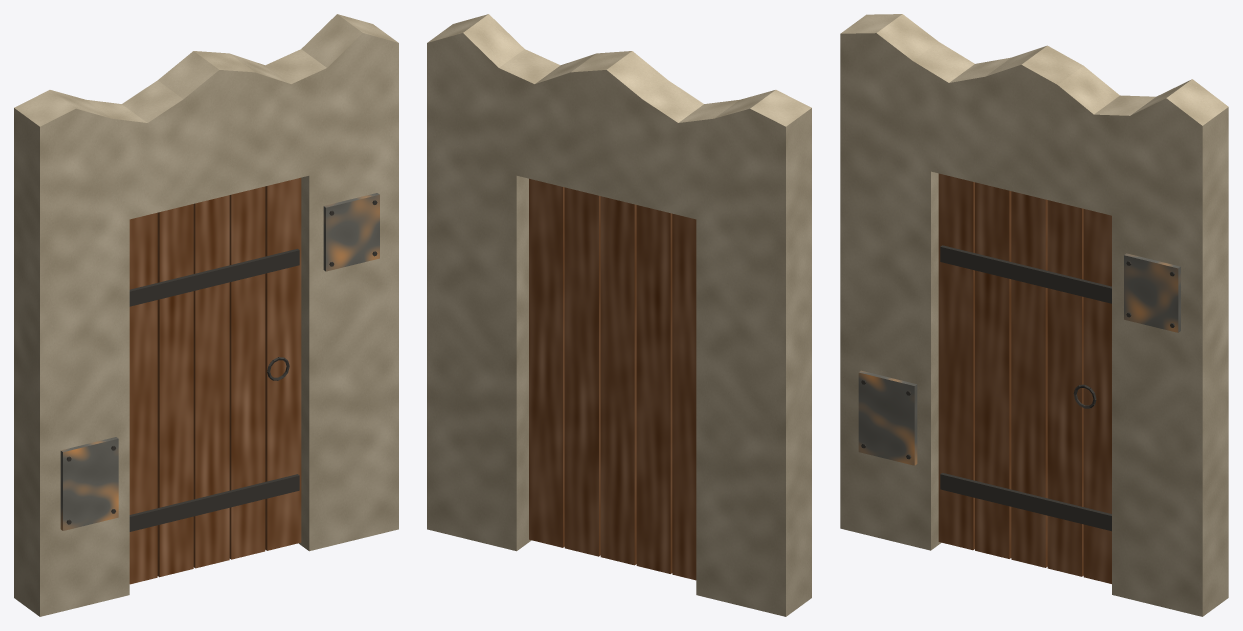
File: wall_door_sand.glb
3 views of the same model, side by side, from view 1: azimuth 30°, elevation 25°; view 2: azimuth 150°, elevation 25°; view 3: azimuth 330°, elevation 25° (orthographic).
Parts seen in each view (by area): view 1: door, object 1, object 2, object 3, object 5, object 15, object 10, object 23, object 19, object 20, object 18, object 24 (+4 smaller); view 2: door, object 1, object 2, object 3, object 15, object 23, object 19, object 20, object 18, object 24, object 22, object 16 (+2 smaller); view 3: door, object 2, object 1, object 3, object 5, object 24, object 10, object 20, object 16, object 21, object 15, object 17 (+4 smaller).
Boxes of the visible parts, x1,y1,x2,y2 form: door: (129, 177, 301, 584); object 1: (14, 144, 129, 616); object 2: (299, 78, 398, 551); object 3: (129, 100, 309, 219); object 5: (60, 437, 118, 530); object 15: (14, 90, 75, 165); object 10: (323, 193, 379, 271); object 23: (301, 14, 362, 95); object 19: (158, 51, 219, 130); object 20: (194, 51, 255, 122); object 18: (122, 80, 183, 139); object 24: (337, 14, 398, 87); door: (529, 178, 696, 580); object 1: (696, 144, 811, 616); object 2: (427, 78, 531, 551); object 3: (516, 100, 696, 219); object 15: (750, 90, 811, 165); object 23: (463, 14, 524, 95); object 19: (606, 51, 667, 130); object 20: (570, 51, 631, 122); object 18: (642, 80, 703, 139); object 24: (427, 14, 488, 87); object 22: (499, 49, 560, 104); object 16: (714, 90, 774, 157); door: (938, 173, 1111, 583); object 2: (1112, 140, 1228, 616); object 1: (840, 73, 941, 550); object 3: (931, 96, 1111, 215); object 5: (858, 370, 917, 465); object 24: (1166, 79, 1228, 161); object 10: (1124, 253, 1180, 332); object 20: (1021, 45, 1083, 126); object 16: (876, 14, 938, 90); object 21: (1057, 66, 1119, 135); object 15: (840, 14, 901, 82); object 17: (912, 42, 974, 99).
Bounding box in the file's own units: 2 × 2.69 × 0.283.
4 materials, 4 textured.
